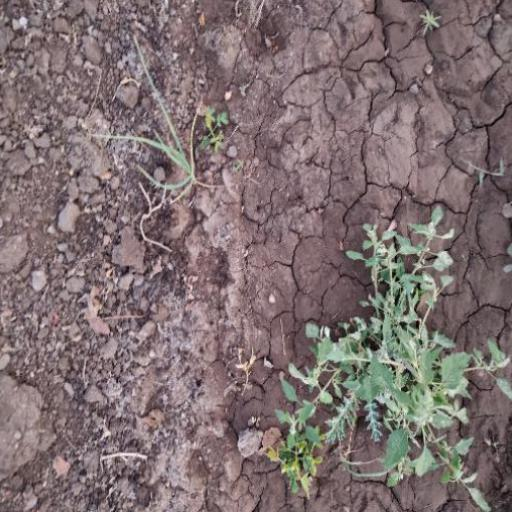weed: (276, 222, 509, 511), (86, 33, 260, 245)
